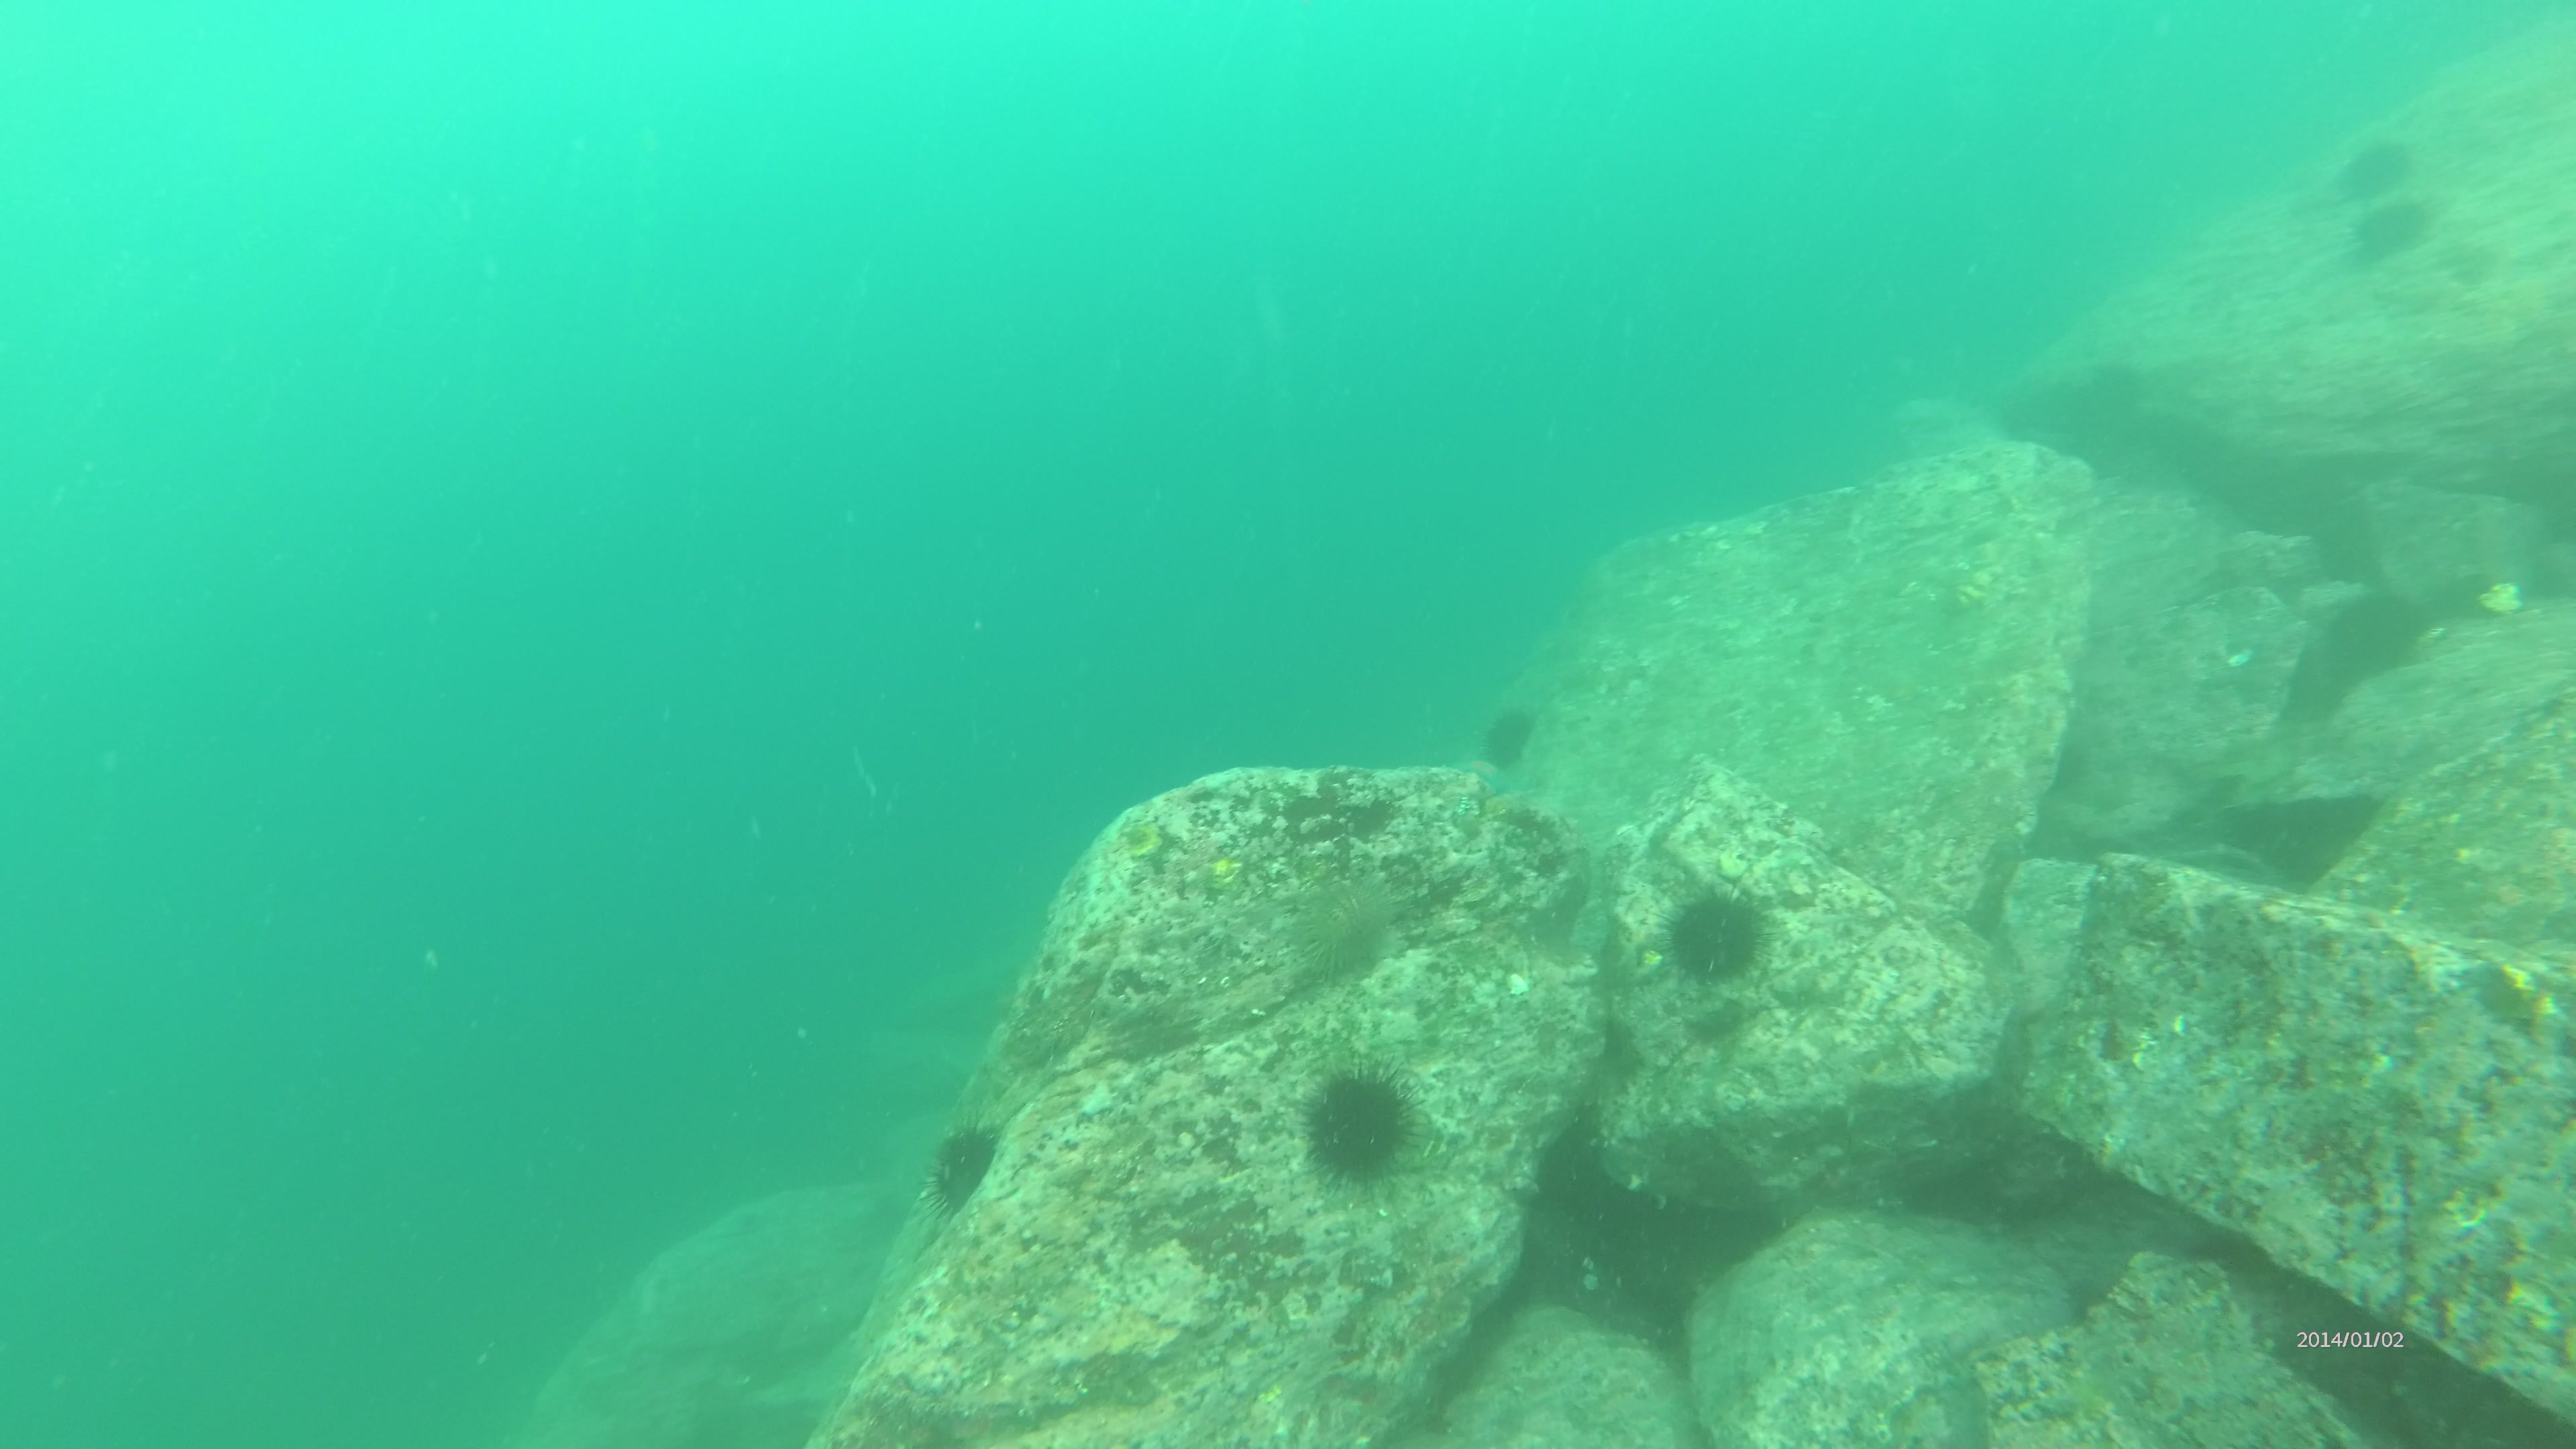echinus: (1281, 1065, 1433, 1194), (1660, 885, 1790, 1001), (915, 1108, 1007, 1224), (2348, 196, 2438, 274), (2334, 149, 2411, 209), (1481, 706, 1543, 778)
